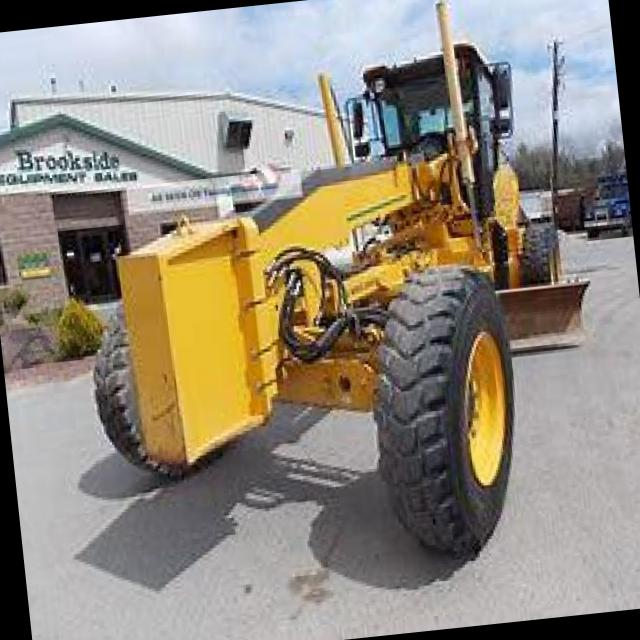Grader: (54, 9, 626, 593)
